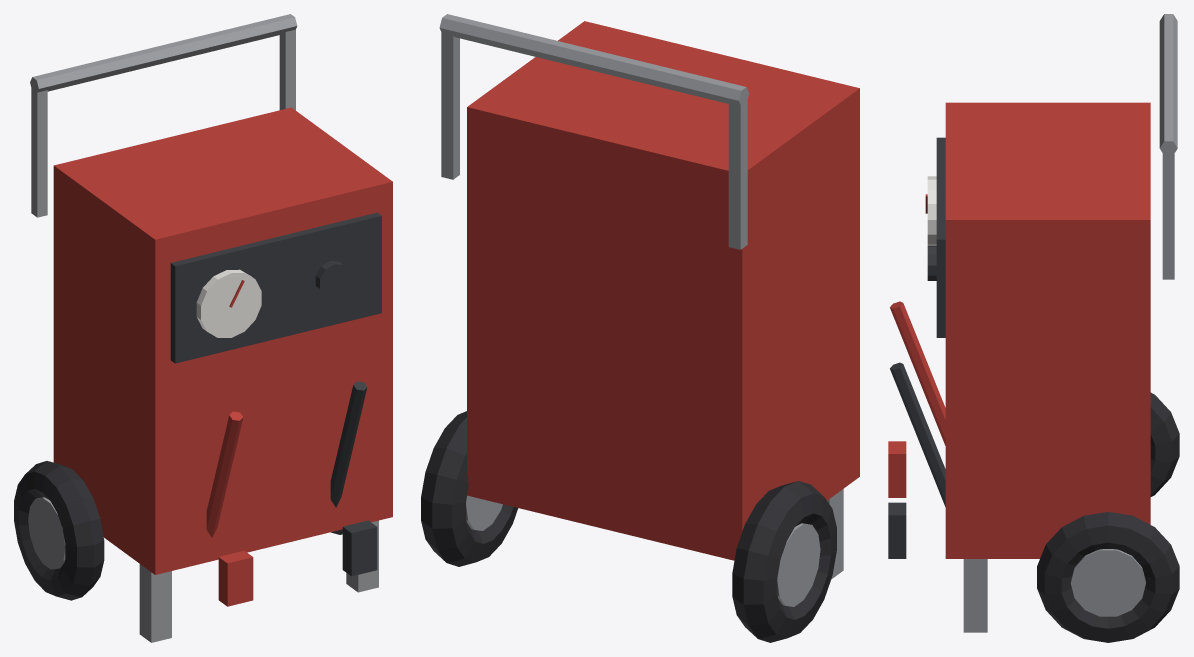
The model's file is battery_charger.glb.
3 views of the same model, side by side, from view 1: azimuth 30°, elevation 25°; view 2: azimuth 150°, elevation 25°; view 3: azimuth 270°, elevation 25° (orthographic). The views are drawn at different scales.
Visible parts, largest first — view 1: battery_charger; view 2: battery_charger; view 3: battery_charger.
Part boxes in pixels (x1,y1,x2,y2): battery_charger: [14, 14, 392, 642]; battery_charger: [421, 14, 859, 642]; battery_charger: [888, 14, 1179, 642].
Bounding box in the file's own units: 0.5855 × 0.913 × 0.4832.
